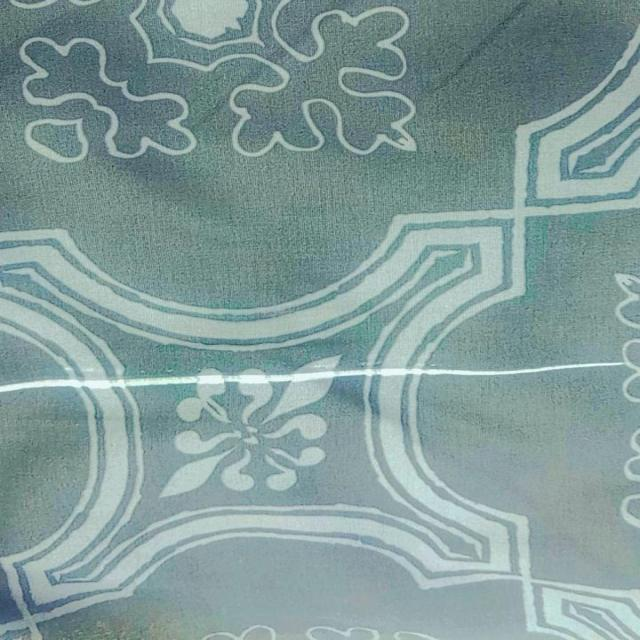selvet: (0, 354, 629, 396)
